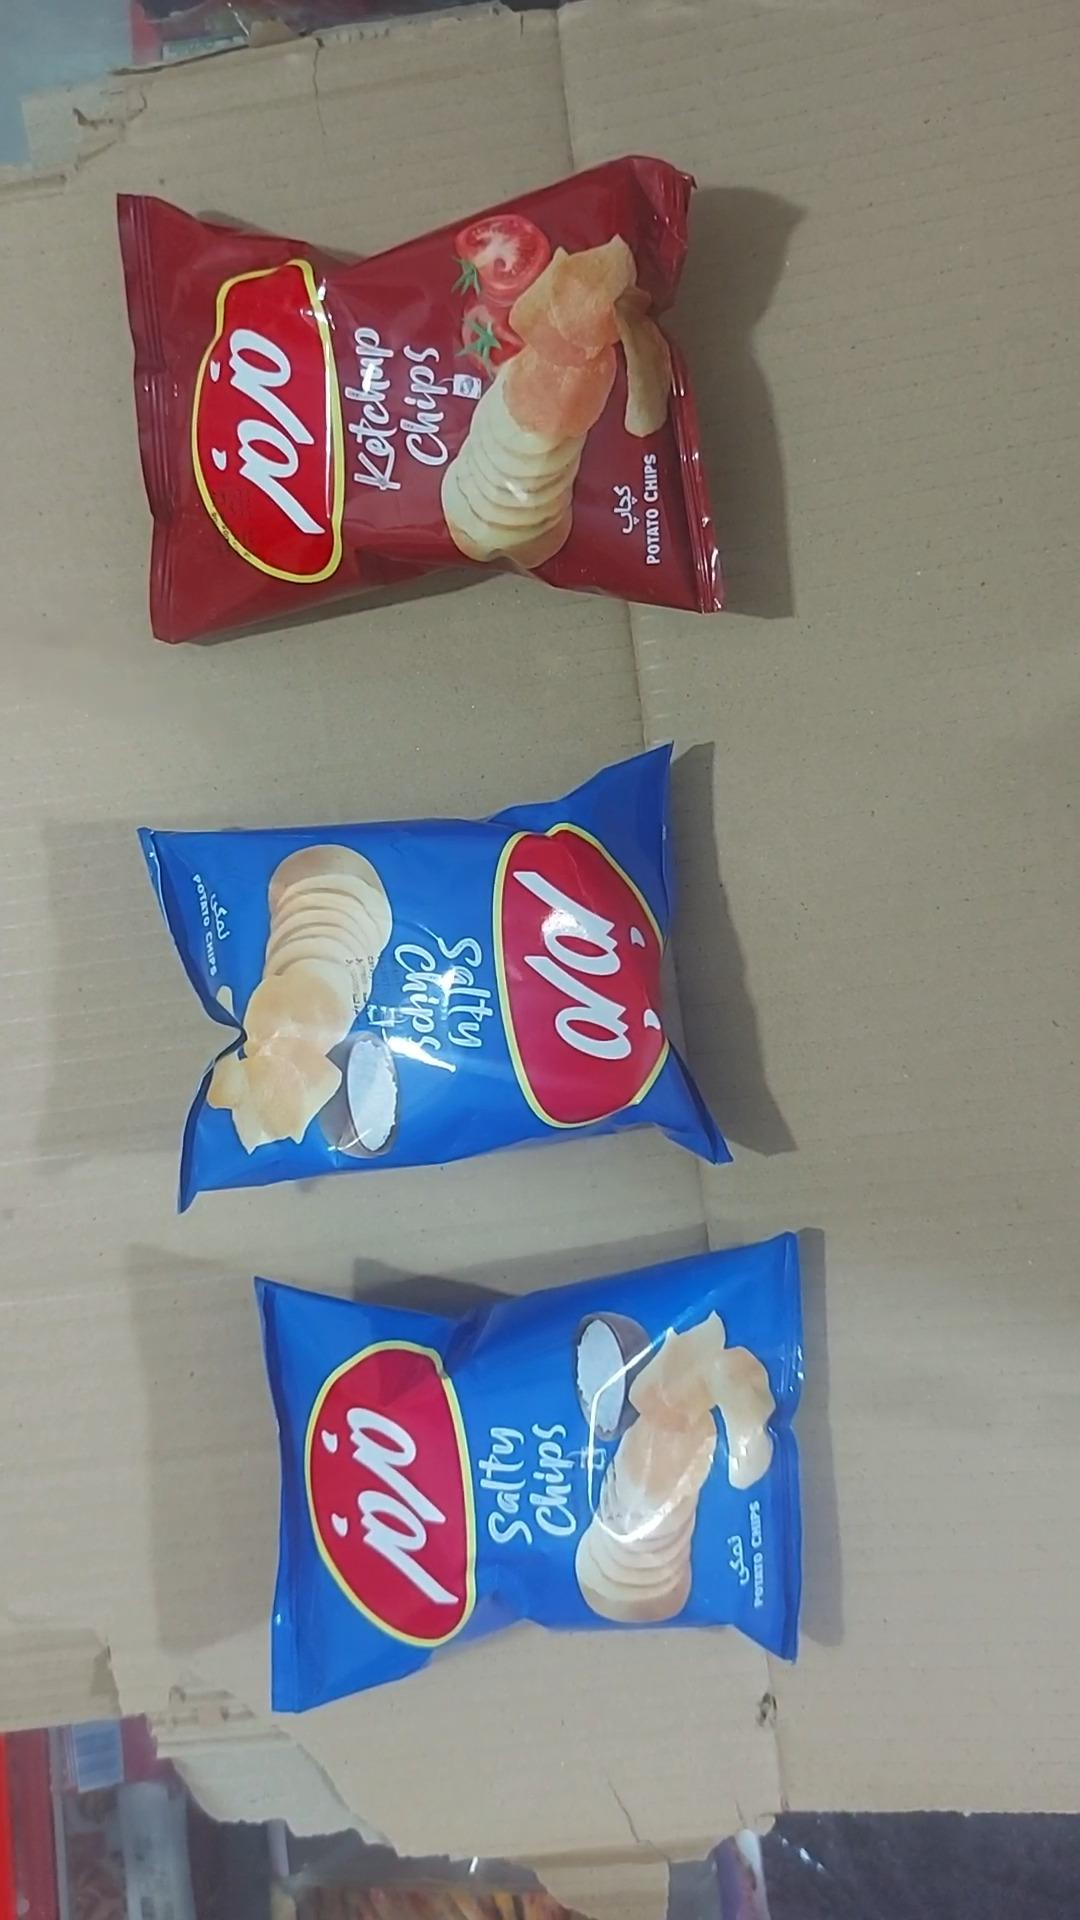Maz Maz ketchup chips: (116, 156, 723, 645)
Maz Maz salty chips: (135, 744, 733, 1216), (255, 1234, 804, 1716)
